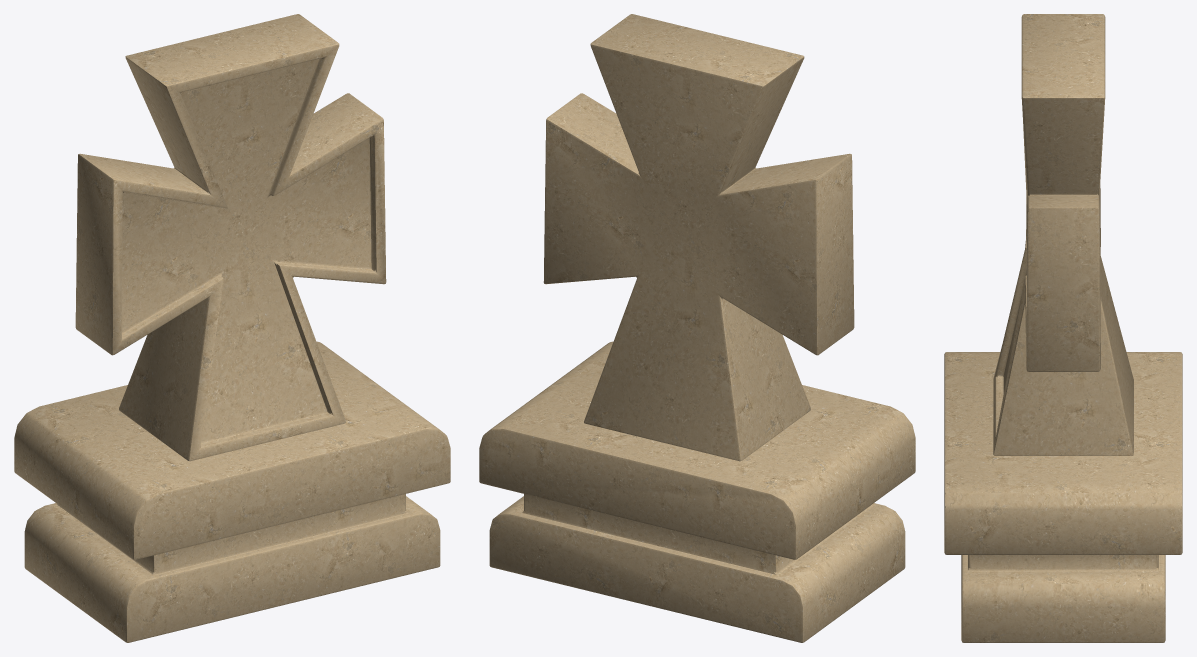
File: cross-tombstone.fbx
3 renders of one model, left to right at view 1: azimuth 30°, elevation 25°; view 2: azimuth 150°, elevation 25°; view 3: azimuth 270°, elevation 25°, orthographic.
Parts seen in each view (by area): view 1: cross-tombstone; view 2: cross-tombstone; view 3: cross-tombstone.
Part boxes in pixels (box(x1,y1,x2,y2)): cross-tombstone: box(14, 14, 450, 642); cross-tombstone: box(479, 14, 915, 642); cross-tombstone: box(944, 14, 1182, 642).
Size of the model in its own units: 71.73 by 112 by 47.07.
